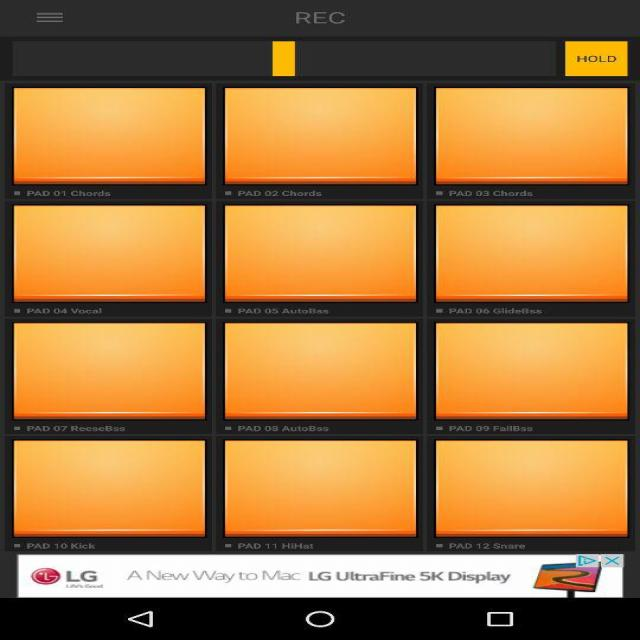button: (553, 33, 640, 83), (23, 9, 135, 33)
image: (416, 318, 640, 442), (4, 202, 232, 308), (225, 326, 427, 440), (1, 323, 209, 431), (225, 446, 422, 557), (435, 200, 640, 306), (6, 444, 206, 552), (8, 83, 200, 189), (439, 90, 640, 188), (224, 91, 414, 193), (439, 445, 640, 541), (248, 208, 422, 310)
text: (275, 6, 393, 34)
